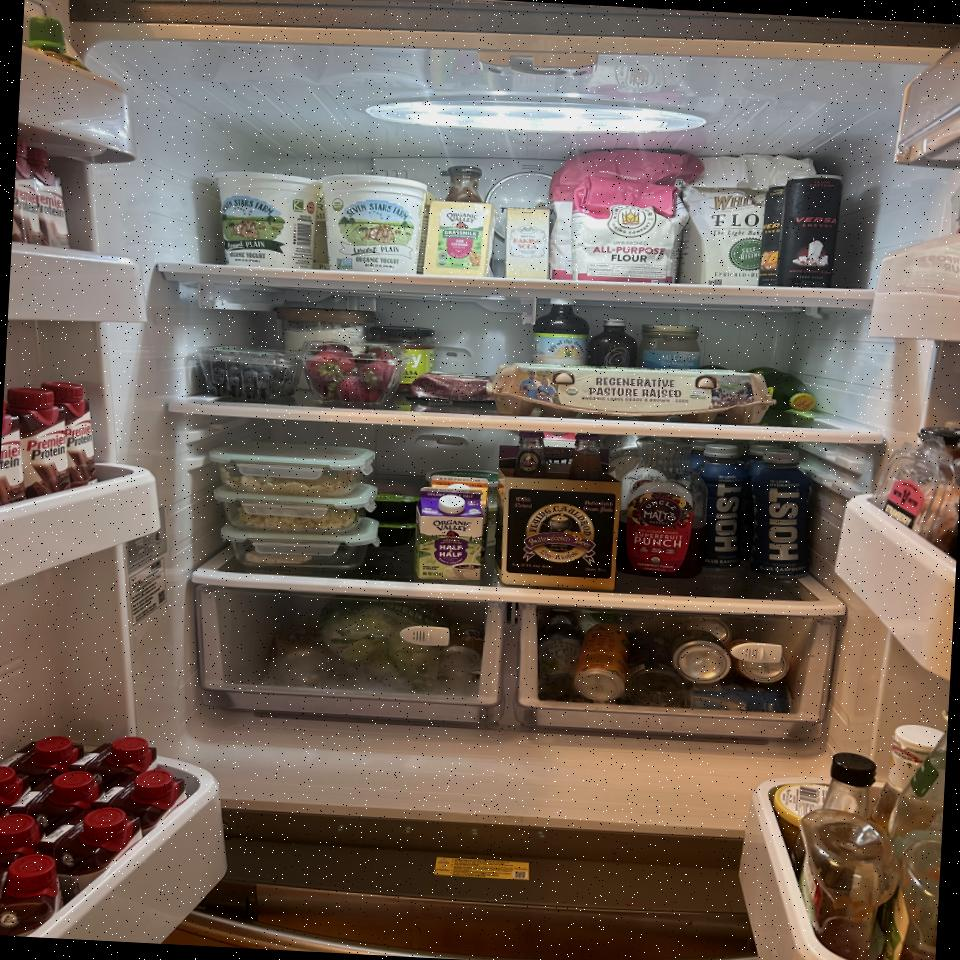Huevos: (485, 357, 774, 428)
Lechuga/Endivia: (315, 594, 444, 696)
Yogur: (317, 173, 428, 275), (210, 169, 320, 271)
blueberries: (199, 345, 300, 405)
strawberries: (300, 340, 400, 406)
